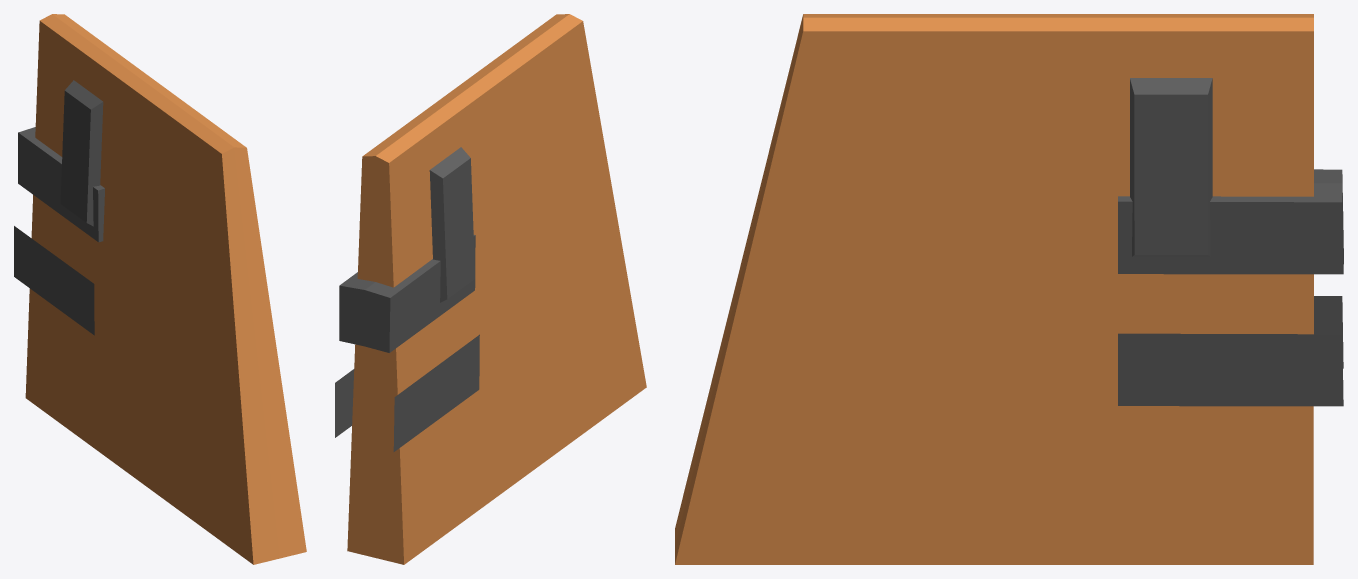
The model's file is SpaceFighter_Fin.fbx.
3 views of the same model, side by side, from view 1: azimuth 30°, elevation 25°; view 2: azimuth 150°, elevation 25°; view 3: azimuth 270°, elevation 25° (orthographic). The views are drawn at different scales.
Visible parts, largest first — view 1: Spacefighter_Fin; view 2: Spacefighter_Fin; view 3: Spacefighter_Fin.
Boxes of the visible parts, x1,y1,x2,y2 form: Spacefighter_Fin: (14,14,306,564); Spacefighter_Fin: (335,14,646,564); Spacefighter_Fin: (675,14,1343,564).
Bounding box in the file's own units: 36.75 × 225 × 258.
